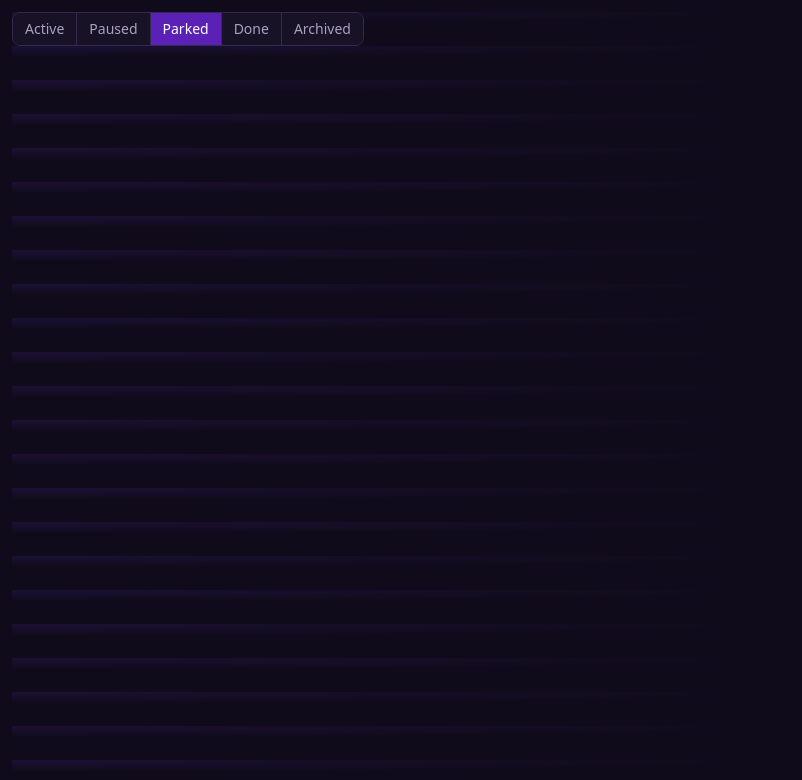
Test: ProjectStatus › turns an active_cap answer into a calm notice and disables active
The image size is (802, 780).
Click the button "Active": (45, 29) [13,13,76,45]
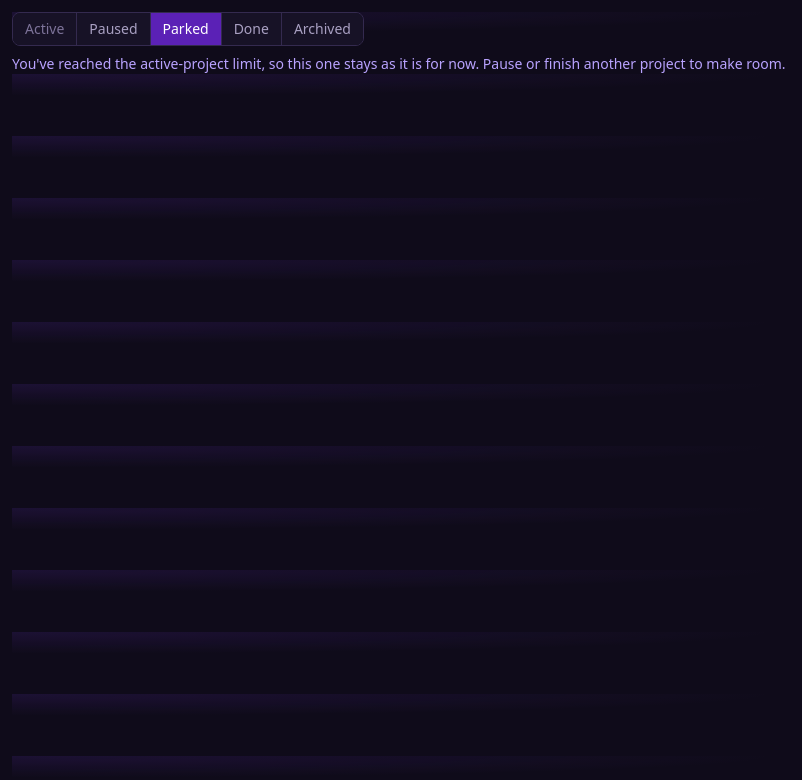
Expected: the message shows "active-project limit", [12,54,786,73]
Expected: the button "Active" is disabled, [13,13,76,45]
